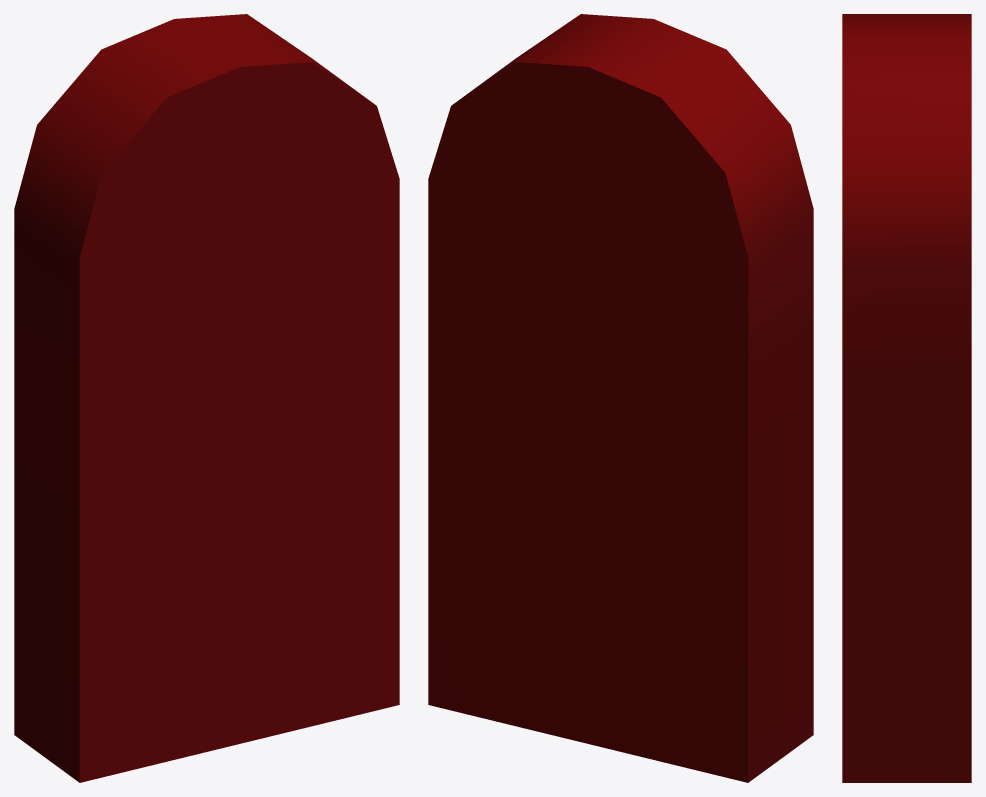
File: geology-carvedstone-gravestone_v1.fbx
3 renders of one model, left to right at view 1: azimuth 30°, elevation 25°; view 2: azimuth 150°, elevation 25°; view 3: azimuth 270°, elevation 25°, orthographic.
Parts seen in each view (by area): view 1: Gravestone_v1; view 2: Gravestone_v1; view 3: Gravestone_v1.
Part boxes in pixels (x1=…): Gravestone_v1: x1=14, y1=14, x2=399, y2=782; Gravestone_v1: x1=428, y1=14, x2=813, y2=782; Gravestone_v1: x1=842, y1=14, x2=971, y2=782.
Bounding box in the file's own units: 2.19 × 4.43 × 0.7771.
